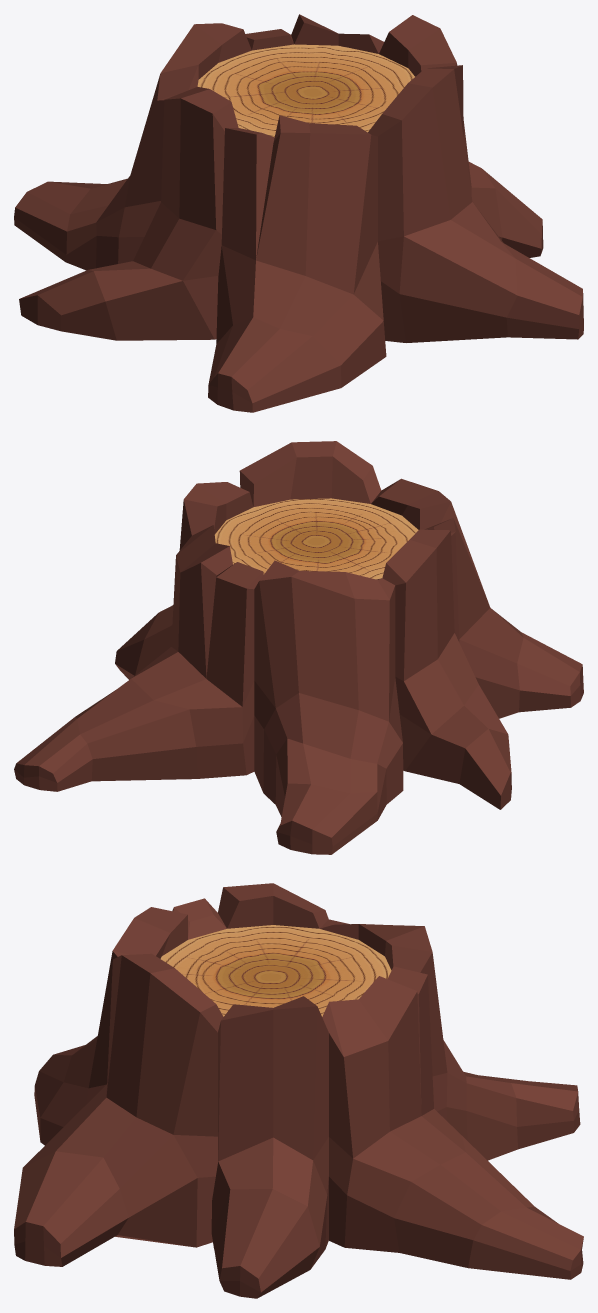
The model's file is log.fbx.
The picture shows the model from 3 angles, top to bottom: view 1: azimuth 30°, elevation 25°; view 2: azimuth 150°, elevation 25°; view 3: azimuth 270°, elevation 25°; orthographic projection. The views are drawn at different scales.
Parts seen in each view (by area): view 1: Circle.001; view 2: Circle.001; view 3: Circle.001.
Boxes of the visible parts, x1,y1,x2,y2 form: Circle.001: (14,14,583,412); Circle.001: (14,441,583,854); Circle.001: (14,883,583,1298).
Bounding box in the file's own units: 3.94 × 2 × 3.93.
